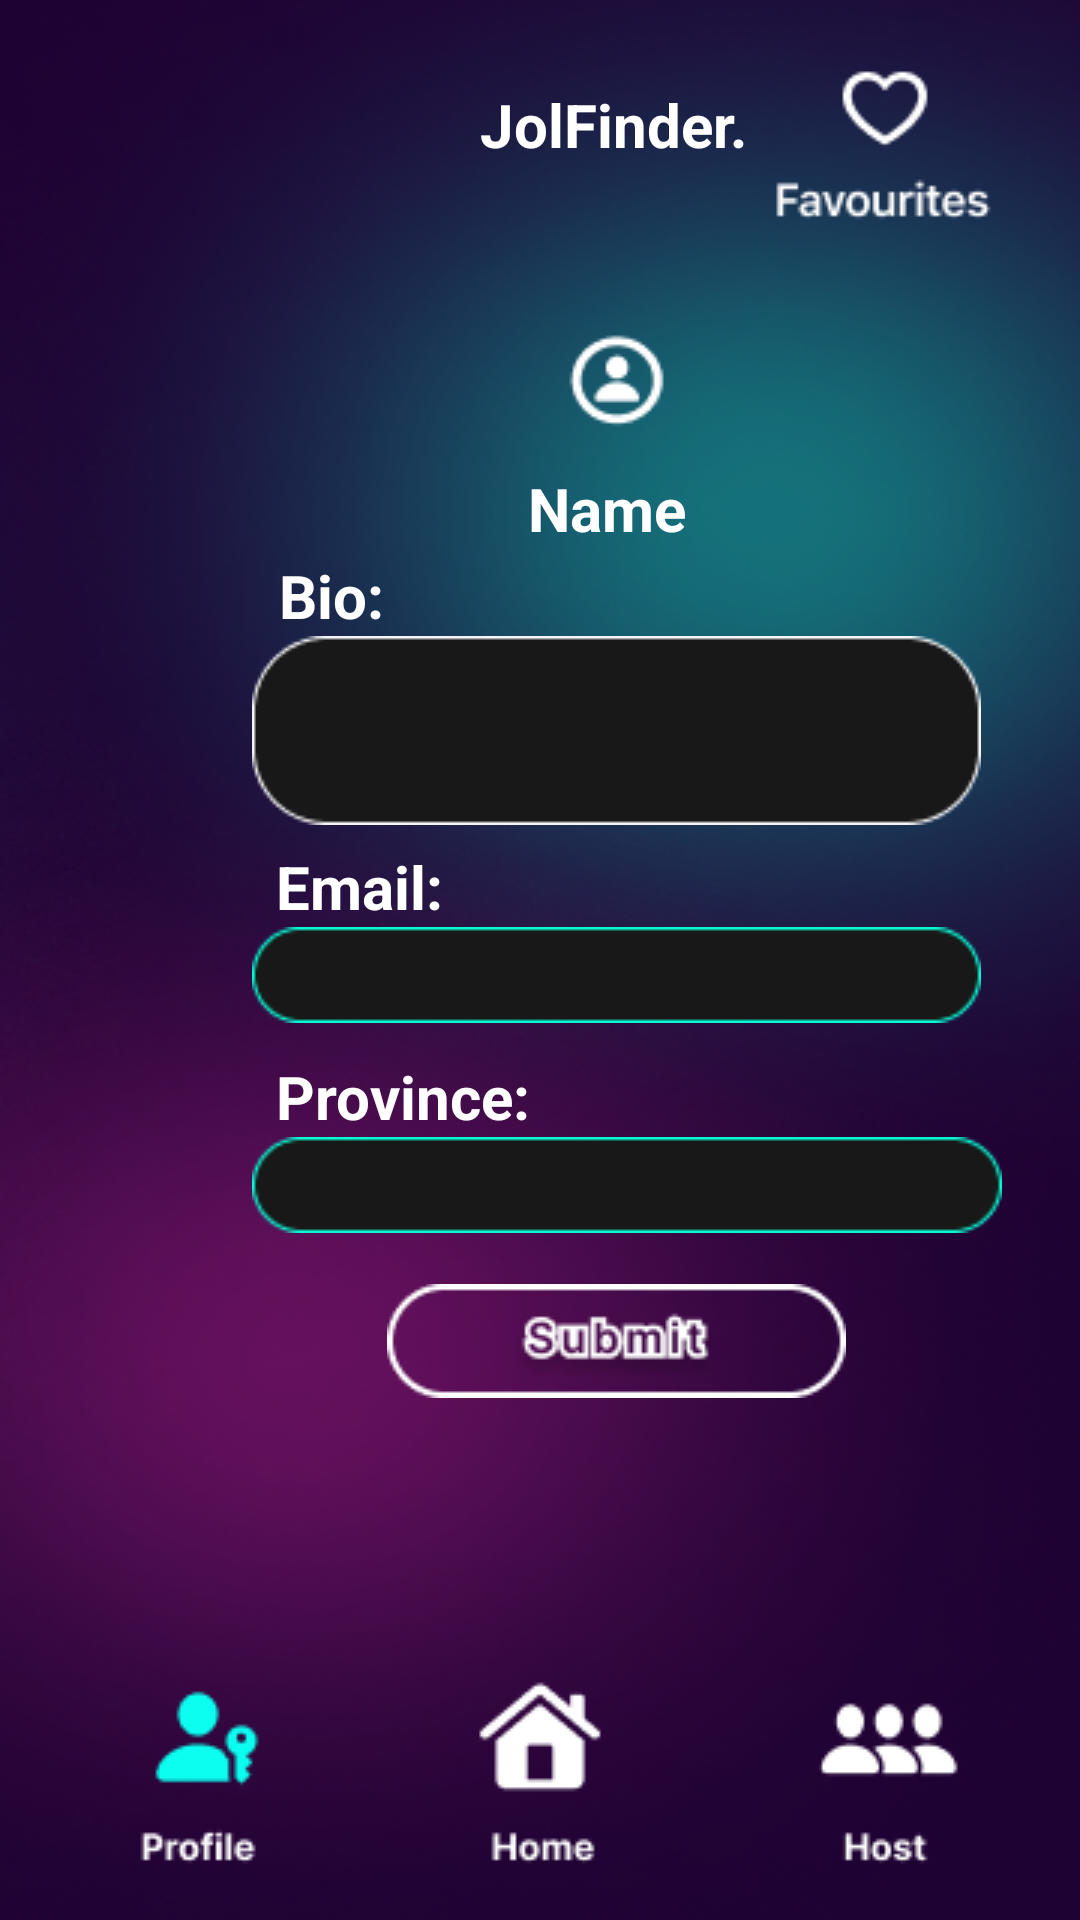

Icon bounding boxes for this 1080 × 1920 phone screenshot, format box(x1, y1, x2, y2):
person profile: box(569, 335, 664, 425)
